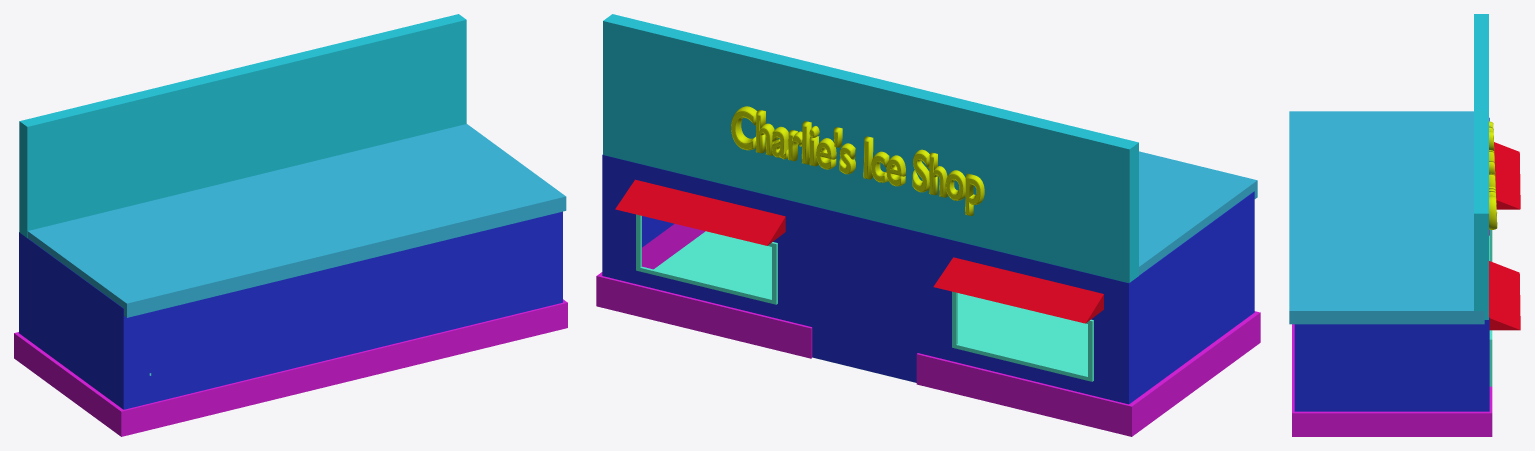
Rendered from iceshop.fbx.
3 renders of one model, left to right at view 1: azimuth 30°, elevation 25°; view 2: azimuth 150°, elevation 25°; view 3: azimuth 270°, elevation 25°, orthographic. The views are drawn at different scales.
Parts seen in each view (by area): view 1: Cube.005; view 2: Cube.005, Text; view 3: Cube.005, Text.
Boxes of the visible parts, left/top/right/bottom form: Cube.005: left=14, top=14, right=567, bottom=436; Cube.005: left=596, top=14, right=1260, bottom=436; Text: left=731, top=106, right=984, bottom=215; Cube.005: left=1289, top=14, right=1520, bottom=436; Text: left=1489, top=121, right=1497, bottom=229.
Size of the model in its own units: 21639 by 11006 by 10419.
